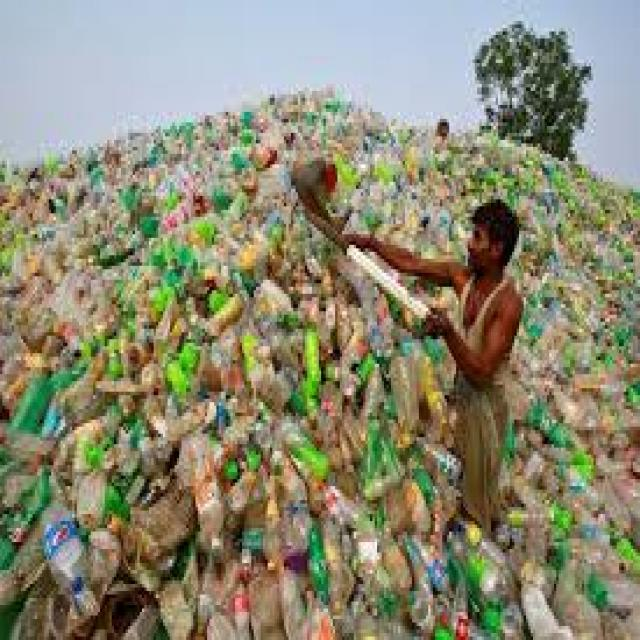heap: (17, 78, 350, 637)
